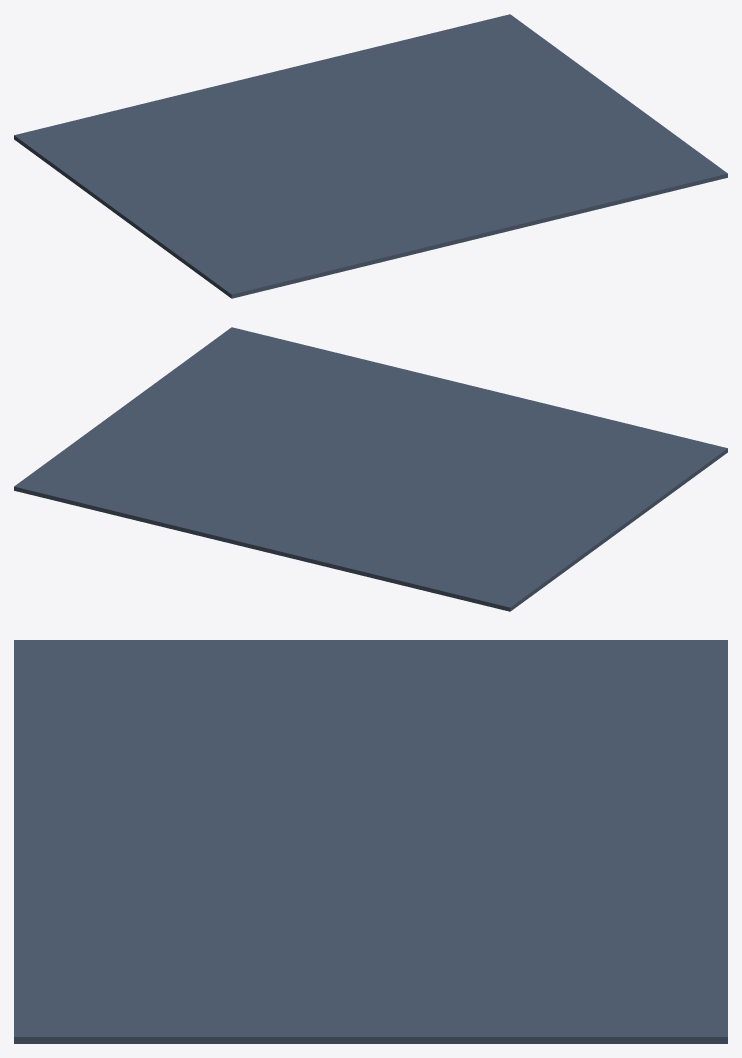
File: floor_001_f_d9618581ea.obj
The picture shows the model from 3 angles, top to bottom: view 1: azimuth 30°, elevation 25°; view 2: azimuth 150°, elevation 25°; view 3: azimuth 270°, elevation 25°; orthographic projection. The views are drawn at different scales.
Parts seen in each view (by area): view 1: Floor_001_f_d9618581ea; view 2: Floor_001_f_d9618581ea; view 3: Floor_001_f_d9618581ea.
Boxes of the visible parts, x1=… form: Floor_001_f_d9618581ea: x1=14, y1=14, x2=727, y2=298; Floor_001_f_d9618581ea: x1=14, y1=327, x2=727, y2=611; Floor_001_f_d9618581ea: x1=14, y1=640, x2=727, y2=1043.
Size of the model in its own units: 25 by 0.2 by 19.
